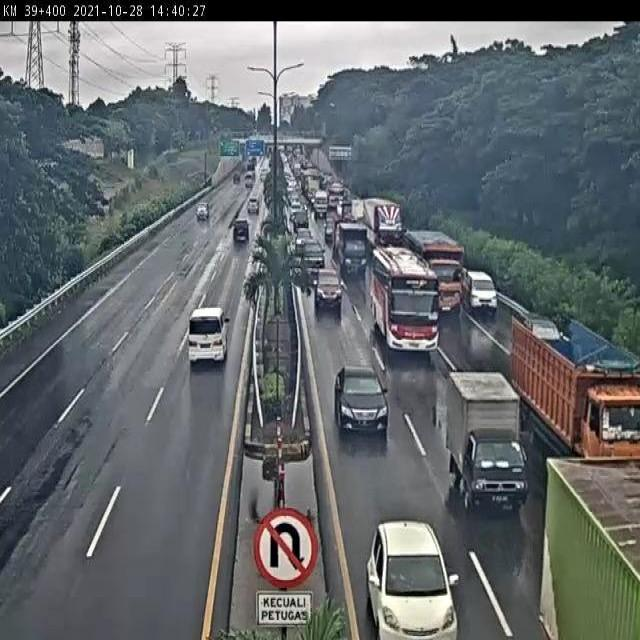big bus: (369, 241, 434, 348)
car: (367, 522, 457, 640), (336, 358, 387, 438), (185, 304, 230, 364), (462, 263, 500, 312), (313, 264, 340, 305), (301, 240, 323, 268), (232, 221, 251, 243)
mid truck: (505, 319, 640, 477), (406, 220, 461, 311)
small truck: (449, 372, 530, 504), (338, 222, 373, 270)
